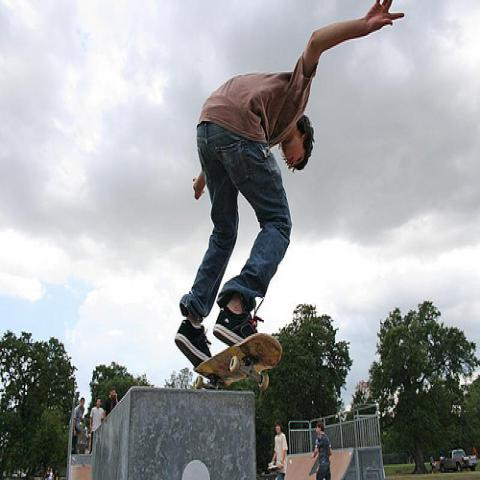truck: (438, 447, 476, 473)
